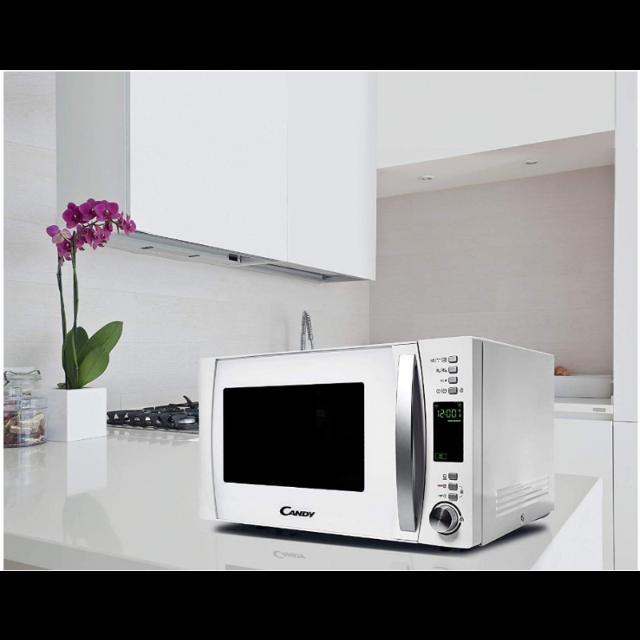Microwave: (201, 337, 561, 551)
